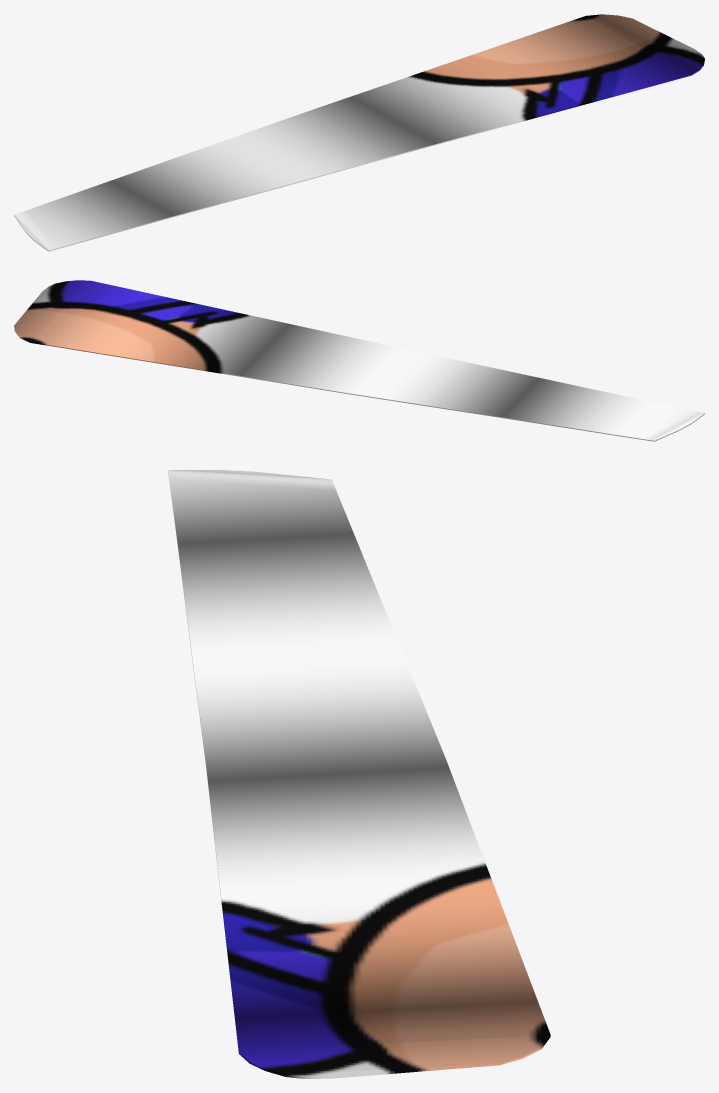
The model's file is Level 102 Roll Blowpipe.fbx.
3 renders of one model, top to bottom at view 1: azimuth 30°, elevation 25°; view 2: azimuth 150°, elevation 25°; view 3: azimuth 270°, elevation 25°, orthographic. The views are drawn at different scales.
Parts seen in each view (by area): view 1: Blend; view 2: Blend; view 3: Blend.
Part boxes in pixels (x1,y1,x2,y2): Blend: (14,14,704,251); Blend: (14,280,704,441); Blend: (168,470,550,1078).
Size of what is drawn, in the model's own units: 712 by 1 by 189.
